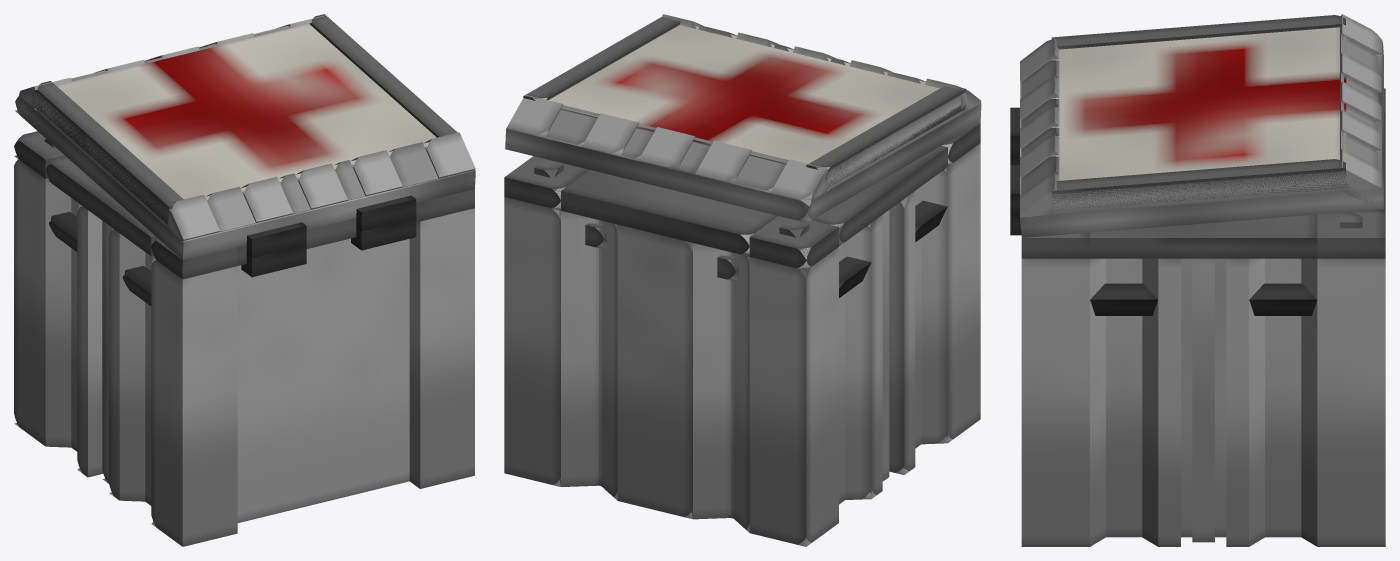
File: medical_crate.obj
3 views of the same model, side by side, from view 1: azimuth 30°, elevation 25°; view 2: azimuth 150°, elevation 25°; view 3: azimuth 270°, elevation 25° (orthographic). The views are drawn at different scales.
Parts seen in each view (by area): view 1: oC, nO, nx, oB, nA, nN, nV, nJ, nI, nQ, ov, nS (+23 smaller); view 2: nO, nA, nD, oA, nN, nF, oy, nx, ot, nz, nK, nH (+25 smaller); view 3: nO, oA, oB, oG, oH, nN, oT, nS, oR, oI, oK, oJ (+25 smaller).
Boxes of the visible parts, <box> form: oC: <box>237,238,409,522</box>; nO: <box>32,24,436,227</box>; nx: <box>151,259,237,546</box>; oB: <box>409,208,474,488</box>; nA: <box>14,159,45,446</box>; nN: <box>15,96,475,260</box>; nV: <box>77,205,103,477</box>; nJ: <box>45,178,71,447</box>; nI: <box>119,233,145,501</box>; nQ: <box>32,81,183,224</box>; ov: <box>45,155,156,256</box>; nS: <box>309,14,457,137</box>; nO: <box>541,25,966,191</box>; nA: <box>749,247,838,546</box>; nD: <box>617,224,692,519</box>; oA: <box>504,187,565,486</box>; nN: <box>505,103,981,222</box>; nF: <box>691,242,730,519</box>; oy: <box>559,208,598,486</box>; nx: <box>941,143,980,443</box>; ot: <box>561,170,777,256</box>; nz: <box>889,191,915,474</box>; nK: <box>845,223,871,499</box>; nH: <box>921,168,947,444</box>; nO: <box>1052,27,1347,214</box>; oA: <box>1317,258,1385,546</box>; oB: <box>1021,258,1089,546</box>; oG: <box>1106,258,1142,537</box>; oH: <box>1265,258,1301,537</box>; nN: <box>1020,40,1383,237</box>; oT: <box>1090,214,1317,258</box>; nS: <box>1051,159,1347,210</box>; oR: <box>1181,258,1226,537</box>; oI: <box>1158,258,1180,546</box>; oK: <box>1226,258,1248,546</box>; oJ: <box>1192,258,1214,542</box>.
Bounding box in the file's own units: 1 × 1.16 × 1.03.
1 material, 1 textured.
